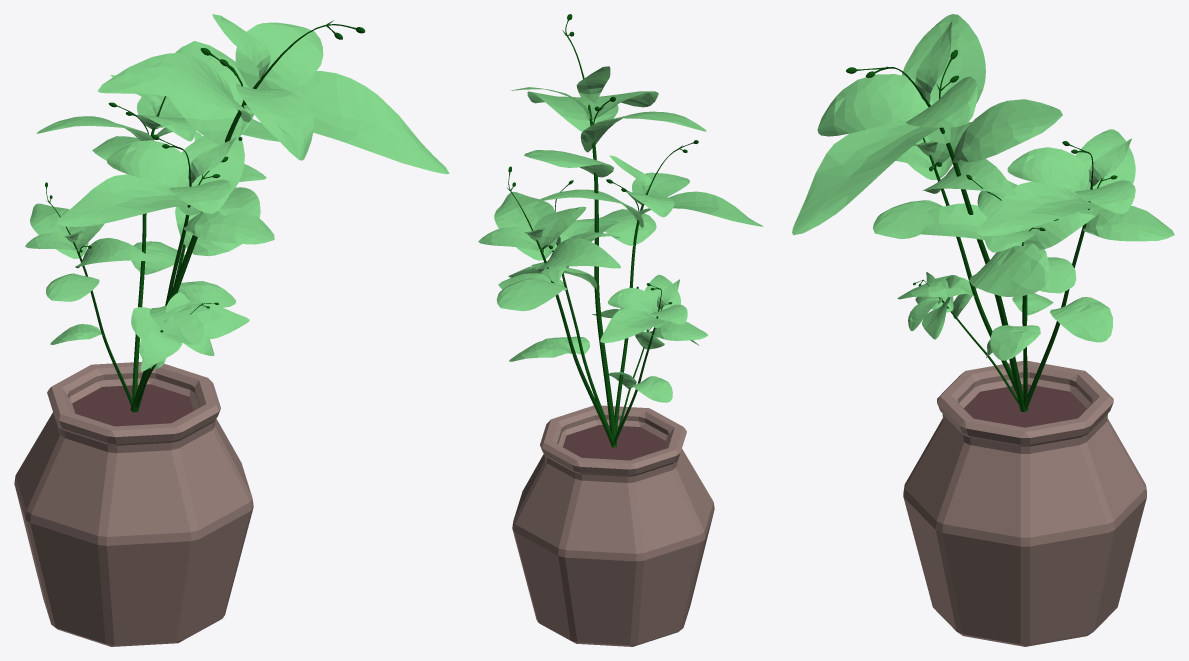
File: pot-transformed.glb
3 views of the same model, side by side, from view 1: azimuth 30°, elevation 25°; view 2: azimuth 150°, elevation 25°; view 3: azimuth 270°, elevation 25° (orthographic). The views are drawn at different scales.
Parts seen in each view (by area): view 1: flower-pot; view 2: flower-pot; view 3: flower-pot.
Part boxes in pixels (x1,y1,x2,y2): flower-pot: (14, 14, 449, 646); flower-pot: (478, 14, 763, 646); flower-pot: (792, 14, 1174, 646).
Bounding box in the file's own units: 1.89 × 3.38 × 1.92.
